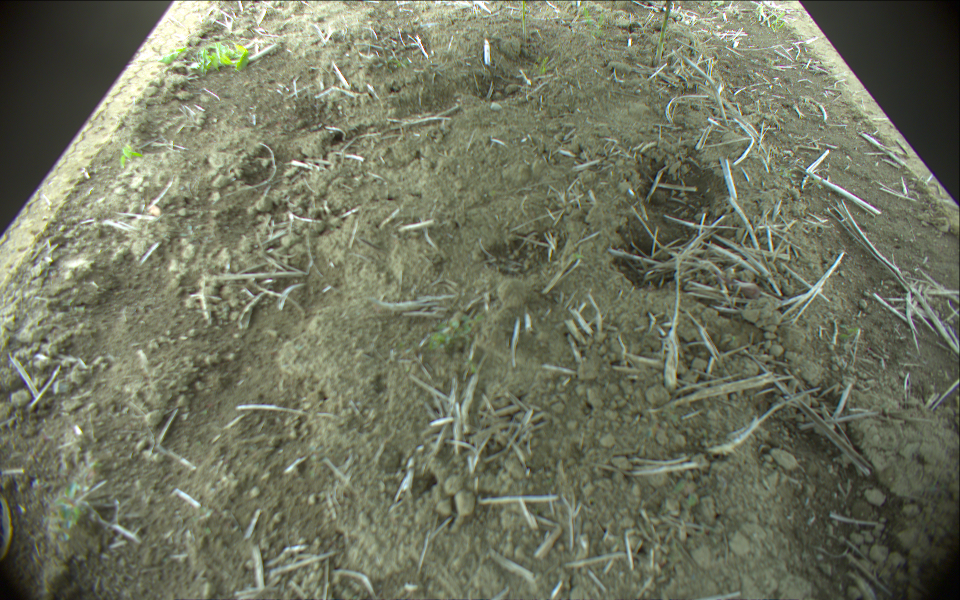aspa: (652, 1, 672, 67), (521, 1, 527, 34)
